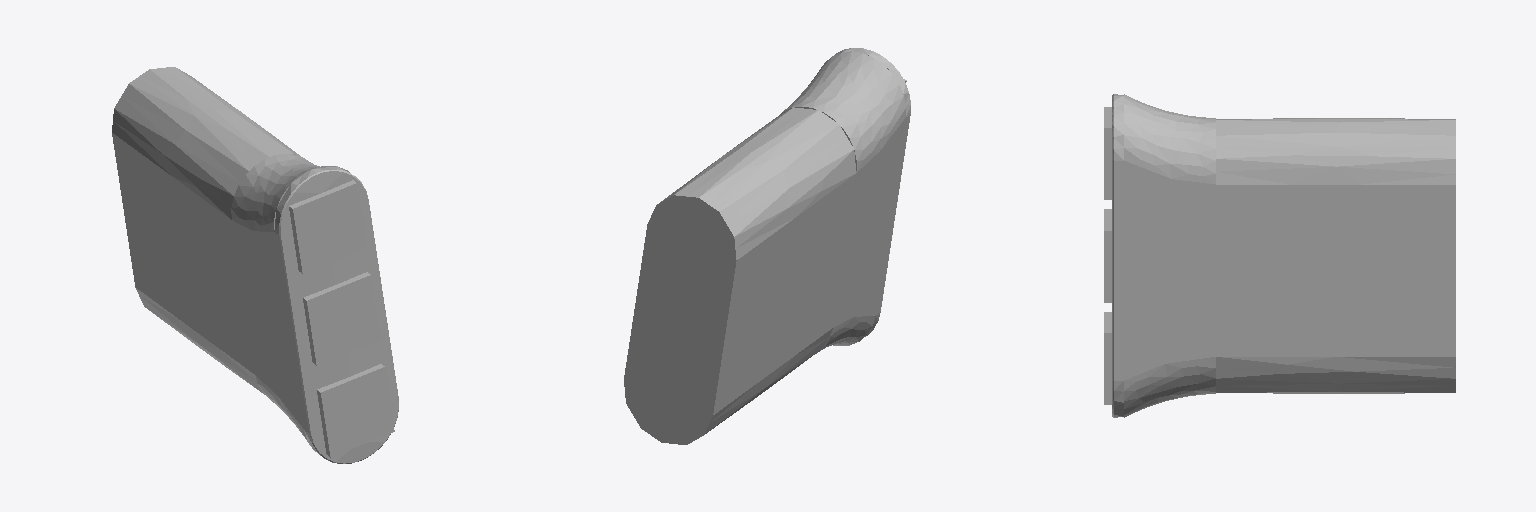
The picture shows the model from 3 angles: view 1: azimuth 30°, elevation 25°; view 2: azimuth 150°, elevation 25°; view 3: azimuth 270°, elevation 25°; orthographic projection.
Parts seen in each view (by area): view 1: g[number redacted]_1; view 2: g[number redacted]_1; view 3: g[number redacted]_1.
Boxes of the visible parts, x1,y1,x2,y2 form: g[number redacted]_1: [112, 67, 398, 463]; g[number redacted]_1: [624, 48, 910, 444]; g[number redacted]_1: [1104, 94, 1455, 417].
Size of the model in its own units: 666 by 1587 by 1685.